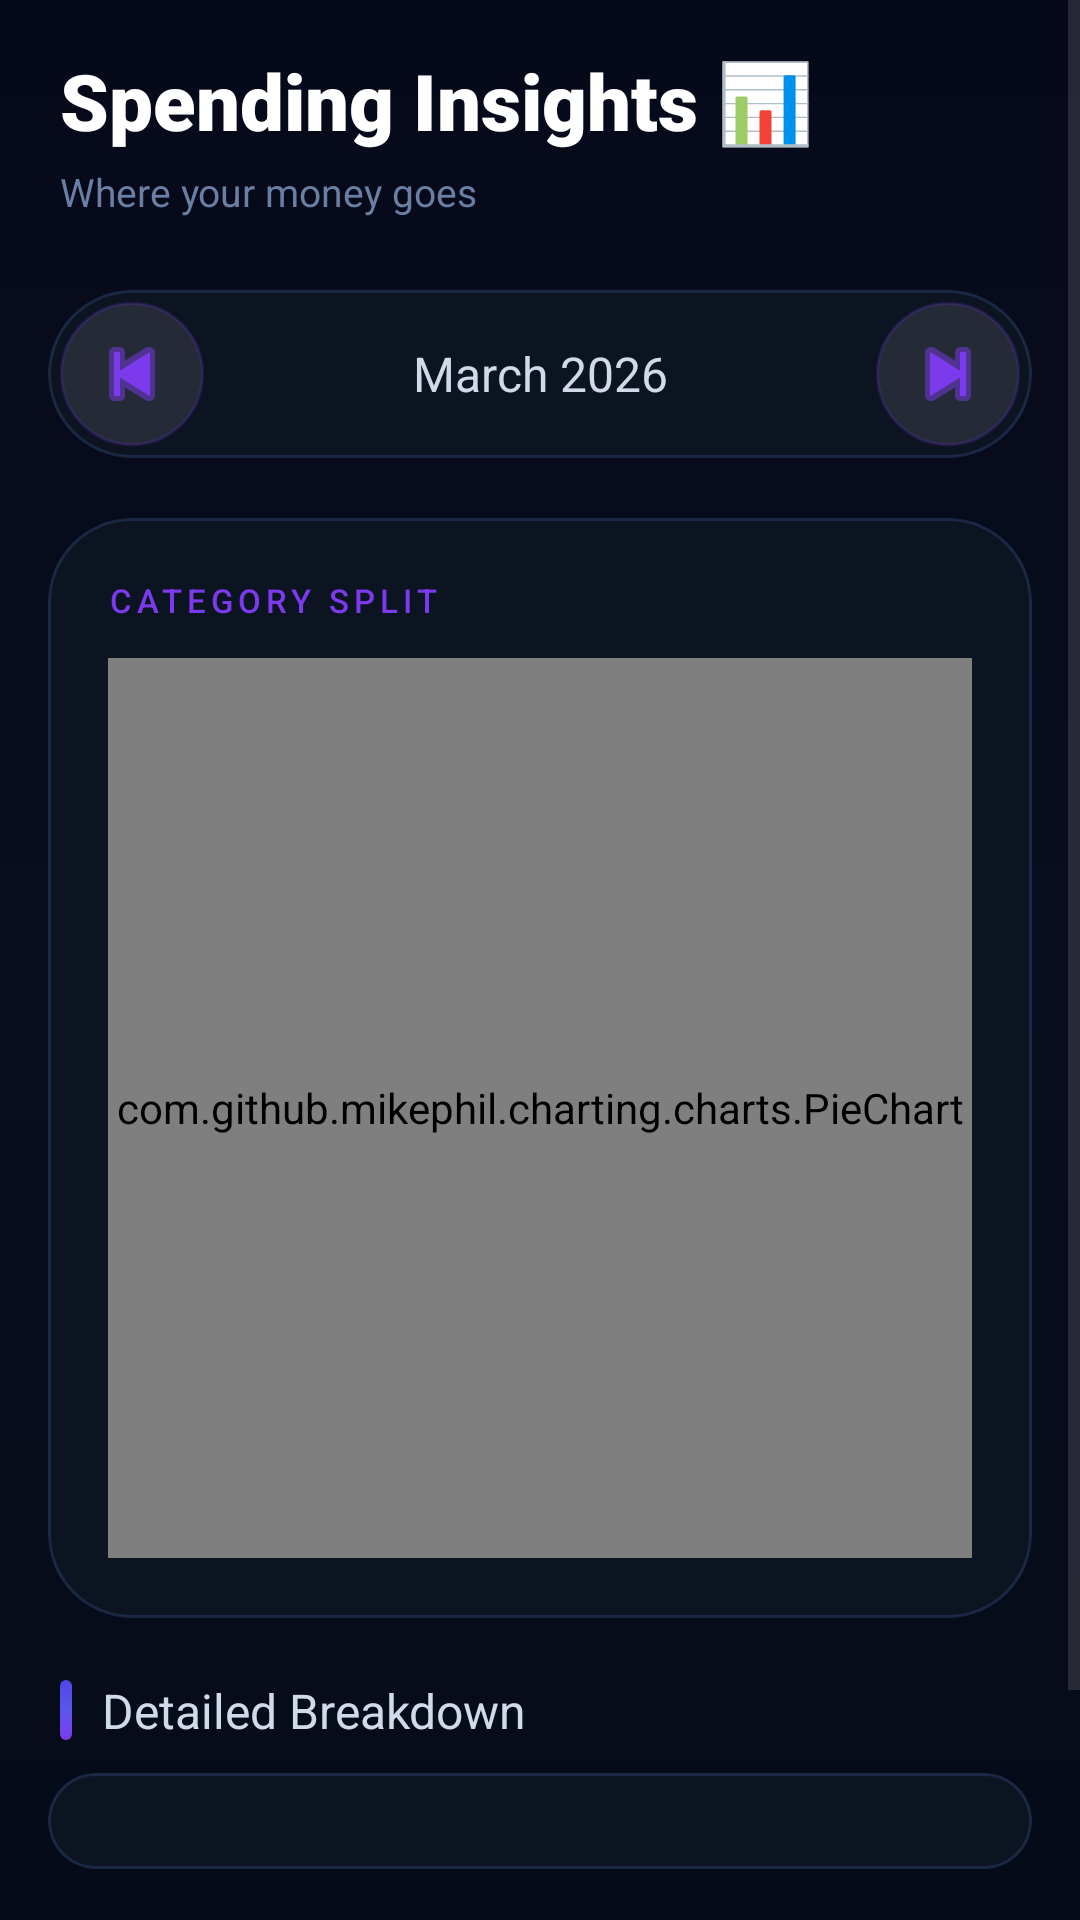

Icon bounding boxes for this 1080x1920 phone screenshot, format (x1, y1, x2, y2):
next: (876, 302, 1020, 446)
previous: (60, 302, 204, 446)
